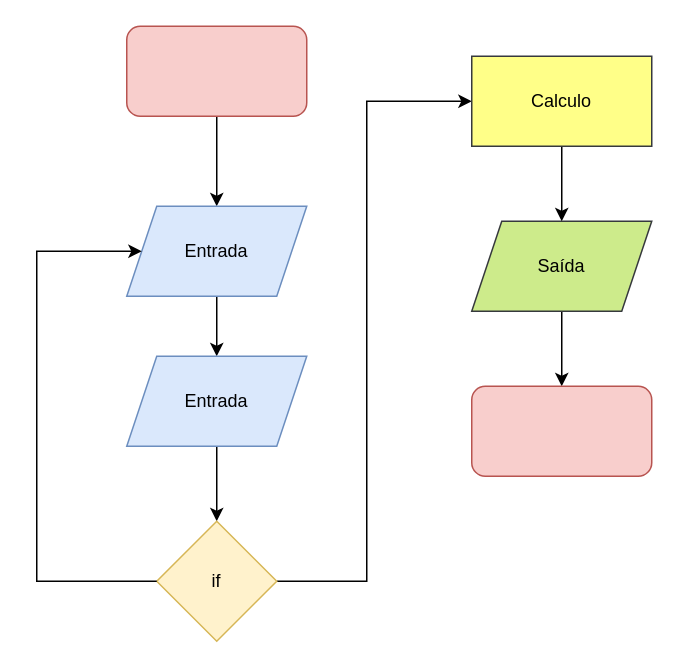
The diagram is 678 pixels wide and 668 high, and some of its shapes have lost their labels. The centre of each missing label's shape, as x and y in pixels:
"Fim" goes at point (561, 430).
"Inicio" goes at point (216, 70).
